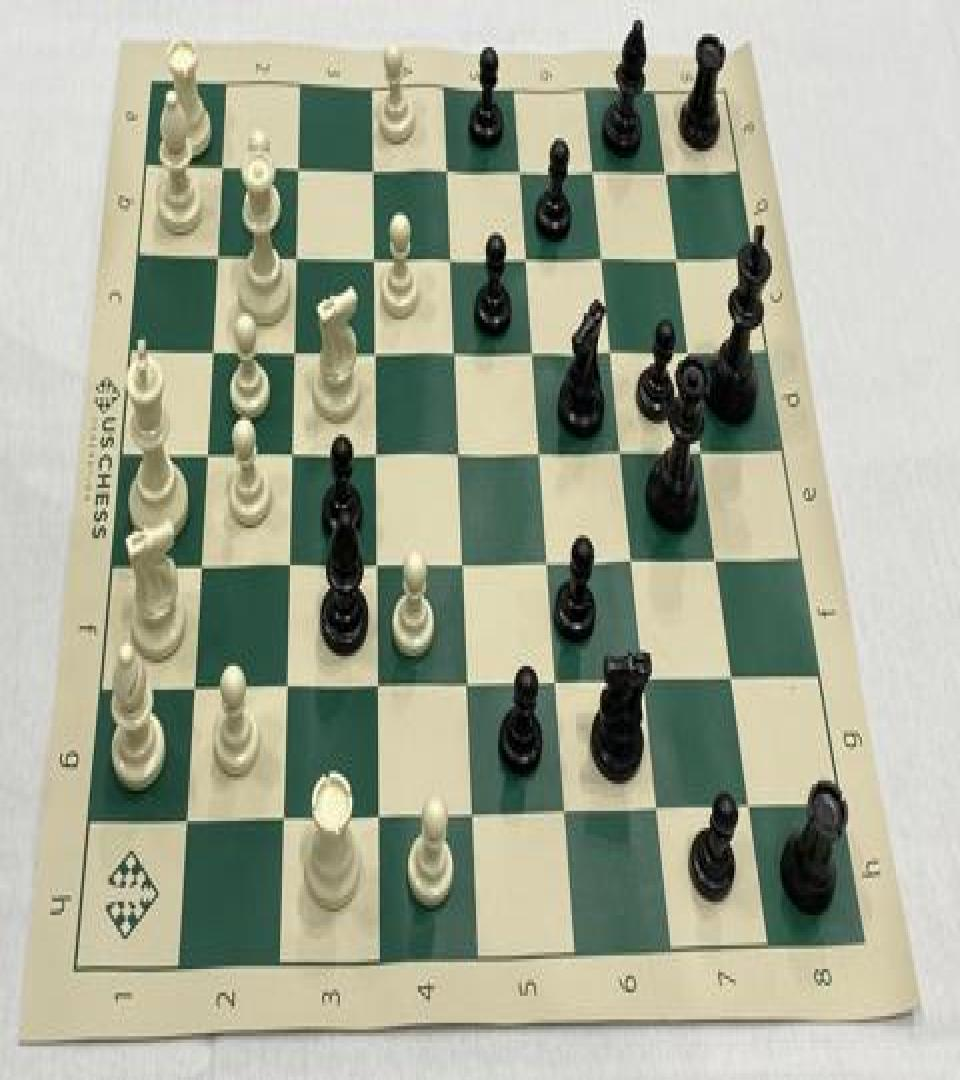xcorner: (211, 146, 233, 184), (182, 664, 204, 702), (656, 153, 678, 190), (287, 148, 309, 185), (668, 239, 690, 276), (592, 239, 614, 276), (516, 237, 538, 274), (440, 237, 462, 274), (362, 237, 384, 274), (693, 432, 715, 469), (612, 432, 634, 469), (530, 432, 552, 469), (447, 432, 469, 469), (364, 432, 386, 469), (280, 432, 302, 469), (195, 432, 217, 469), (707, 540, 729, 577), (623, 540, 645, 577), (722, 656, 744, 693), (634, 658, 656, 695), (456, 661, 478, 698), (366, 661, 388, 698), (274, 663, 296, 700), (739, 784, 761, 821), (461, 791, 483, 828), (367, 792, 389, 829), (271, 794, 293, 831), (584, 152, 606, 188), (510, 152, 532, 188), (436, 150, 458, 186), (362, 150, 384, 186), (284, 236, 306, 272), (206, 236, 228, 272), (680, 332, 702, 368), (602, 332, 624, 368), (523, 332, 545, 368), (443, 332, 465, 368), (363, 332, 385, 368), (282, 330, 304, 366), (200, 330, 222, 366), (538, 542, 560, 578), (452, 542, 474, 578), (365, 542, 387, 578), (277, 544, 299, 580), (188, 544, 210, 580), (546, 660, 568, 696), (647, 786, 669, 822), (555, 788, 577, 824), (174, 798, 196, 834)
